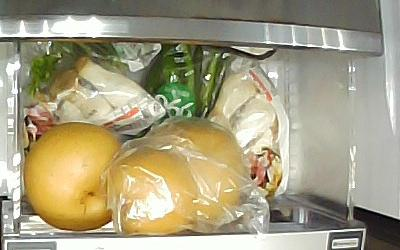pear: (22, 123, 125, 231)
pear_vinyl: (150, 118, 245, 225), (111, 147, 197, 236)
